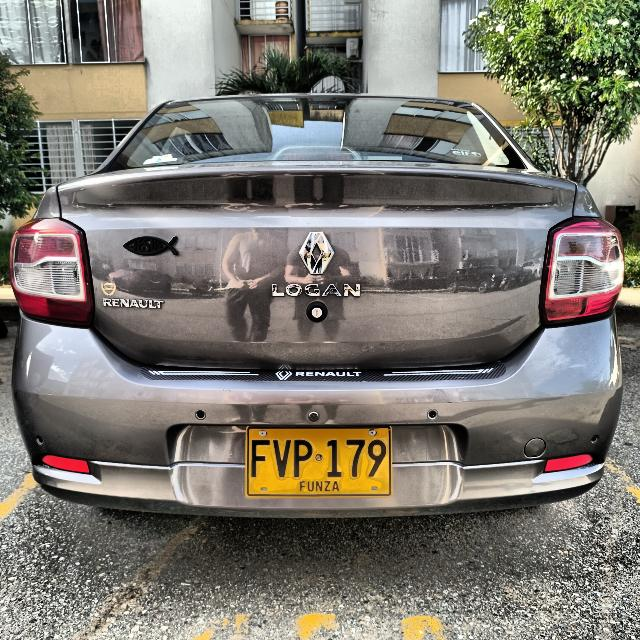plate: (247, 427, 390, 496)
